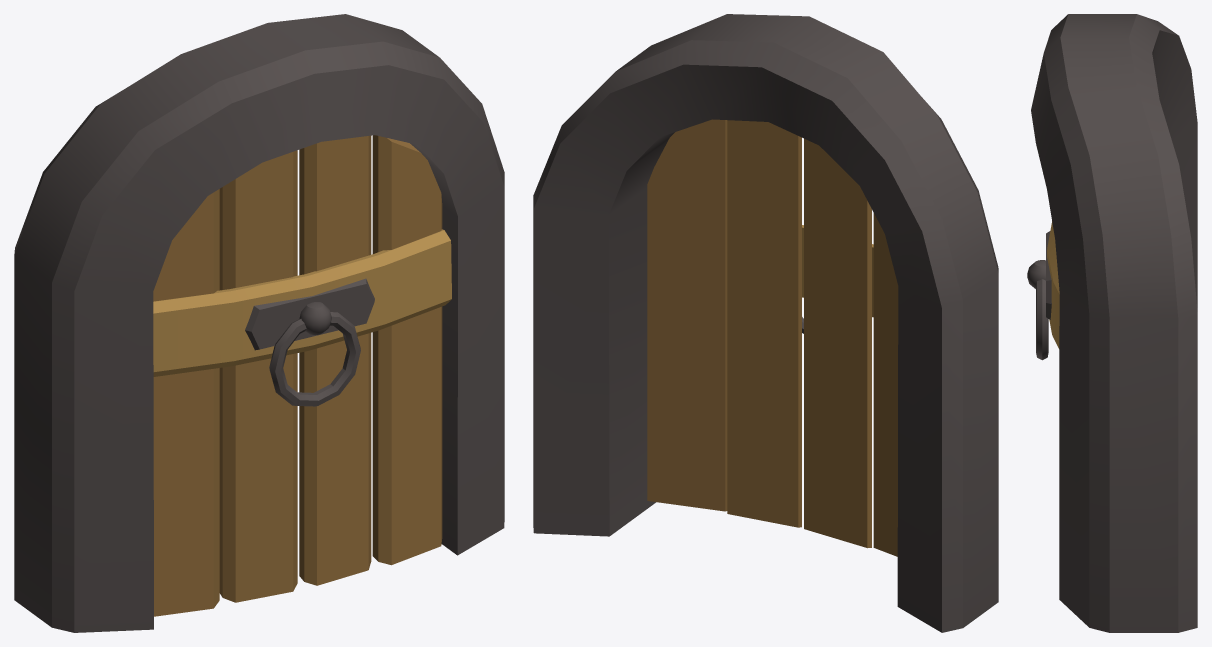
The model's file is quaternius-platformer-game-pack-door.glb.
3 renders of one model, left to right at view 1: azimuth 30°, elevation 25°; view 2: azimuth 150°, elevation 25°; view 3: azimuth 270°, elevation 25°, orthographic. The views are drawn at different scales.
Parts seen in each view (by area): view 1: Door_Frame, Door; view 2: Door_Frame, Door; view 3: Door_Frame, Door.
Boxes of the visible parts, x1=… form: Door_Frame: x1=14, y1=14, x2=504, y2=632; Door: x1=153, y1=135, x2=451, y2=616; Door_Frame: x1=533, y1=14, x2=998, y2=632; Door: x1=647, y1=119, x2=898, y2=556; Door_Frame: x1=1031, y1=14, x2=1197, y2=632; Door: x1=1027, y1=221, x2=1059, y2=360.
Size of the model in its own units: 3.71 by 4.24 by 1.33.
